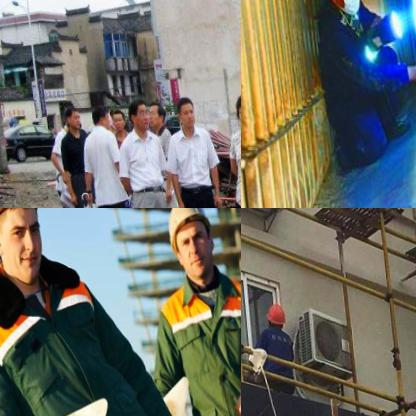helmet: (155, 208, 216, 286), (0, 208, 51, 289), (312, 0, 361, 16), (262, 304, 285, 333)
